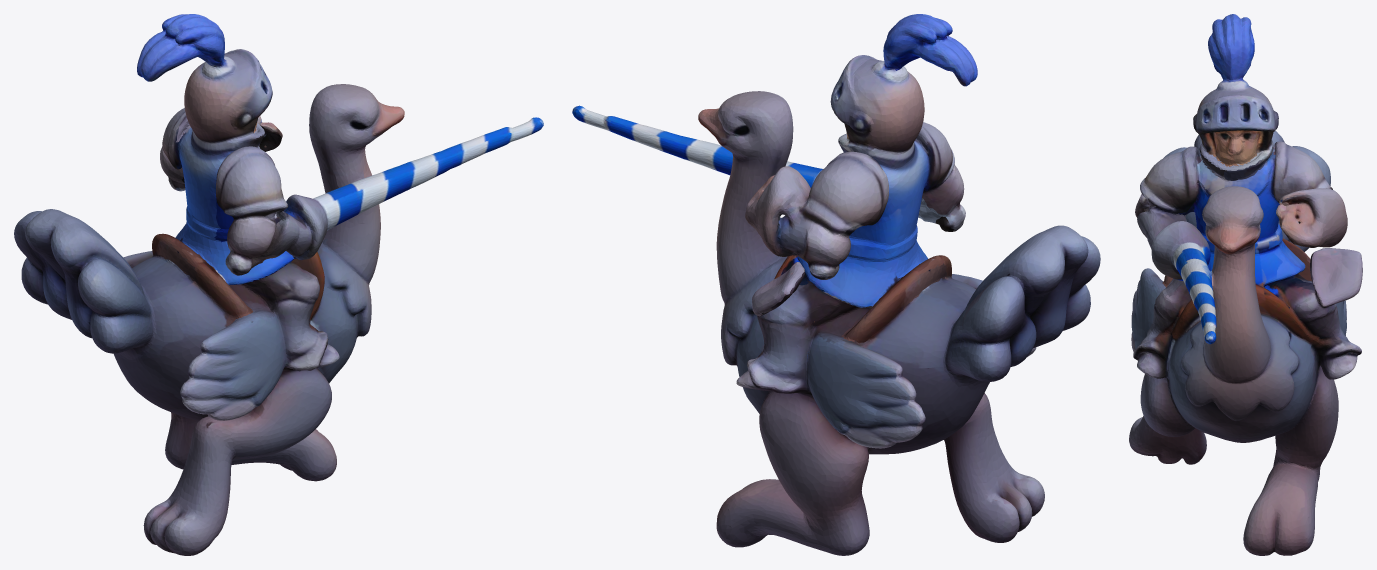
File: player_ostrich.glb
The picture shows the model from 3 angles, left to right: view 1: azimuth 30°, elevation 25°; view 2: azimuth 150°, elevation 25°; view 3: azimuth 270°, elevation 25°; orthographic projection. The views are drawn at different scales.
Parts seen in each view (by area): view 1: tmpr267qe_3.ply; view 2: tmpr267qe_3.ply; view 3: tmpr267qe_3.ply.
Part boxes in pixels (x1,y1,x2,y2): tmpr267qe_3.ply: (14, 14, 543, 555); tmpr267qe_3.ply: (572, 14, 1100, 555); tmpr267qe_3.ply: (1129, 14, 1362, 555).
Bounding box in the file's own units: 1.99 × 1.99 × 0.8957.
Materials: 1 (1 with a texture image).
